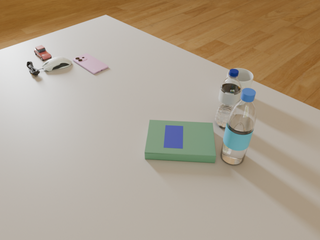book: (145, 120, 216, 163)
bottle: (221, 88, 256, 165), (215, 69, 241, 128)
cup: (227, 68, 253, 101)
mouse: (42, 57, 72, 71)
phone: (73, 53, 108, 74)
toy_car: (34, 45, 52, 61)
